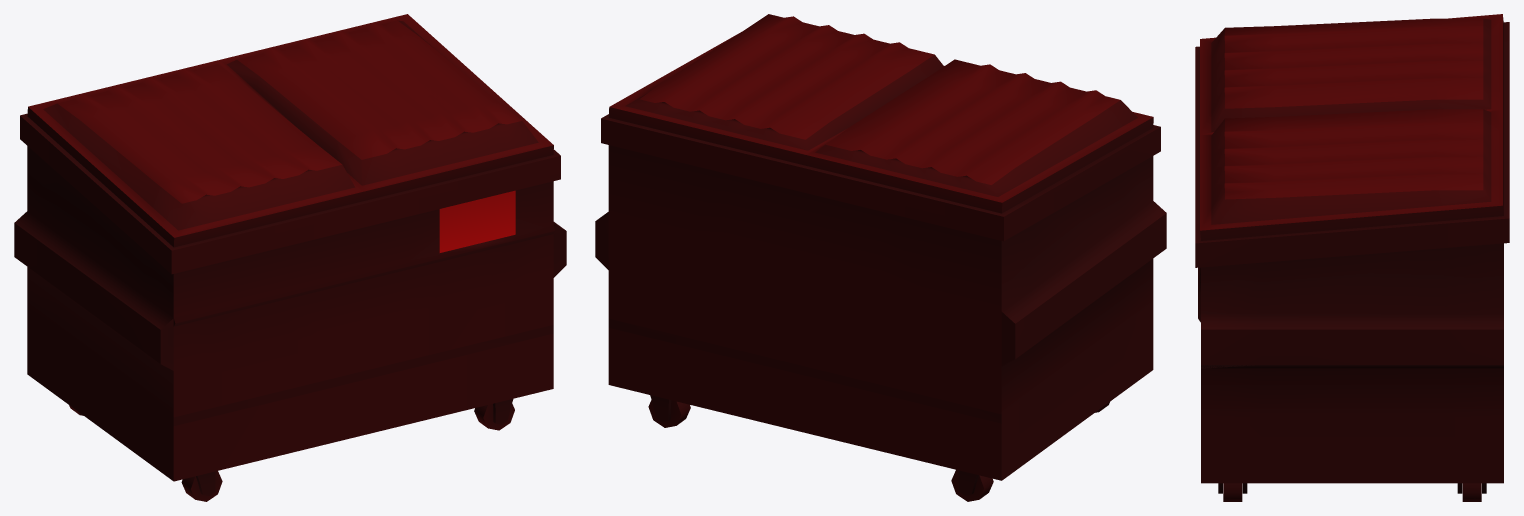
The model's file is Dumpster.glb.
The picture shows the model from 3 angles, left to right: view 1: azimuth 30°, elevation 25°; view 2: azimuth 150°, elevation 25°; view 3: azimuth 270°, elevation 25°; orthographic projection. The views are drawn at different scales.
Parts seen in each view (by area): view 1: Dumpster; view 2: Dumpster; view 3: Dumpster.
Part boxes in pixels (bbox=[...]): Dumpster: bbox=[14, 14, 566, 501]; Dumpster: bbox=[595, 14, 1166, 501]; Dumpster: bbox=[1195, 14, 1509, 501].
Bounding box in the file's own units: 11.8 × 8.77 × 7.65.
